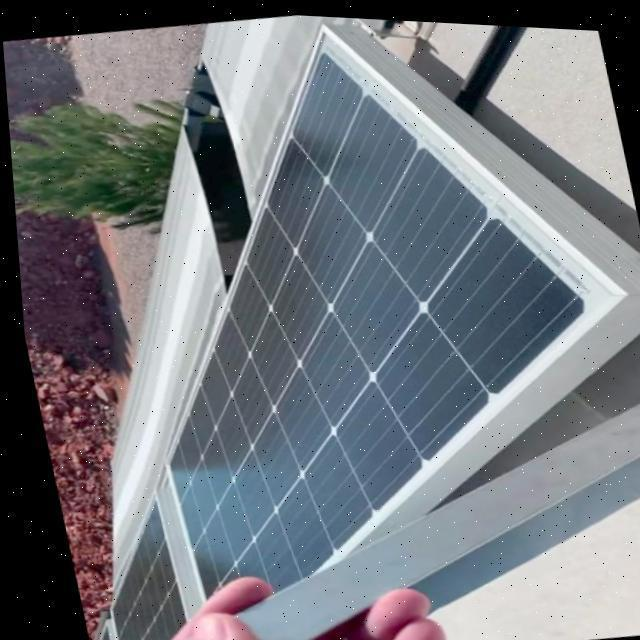Normal Solar Panel: (73, 3, 640, 637), (50, 490, 184, 640)
